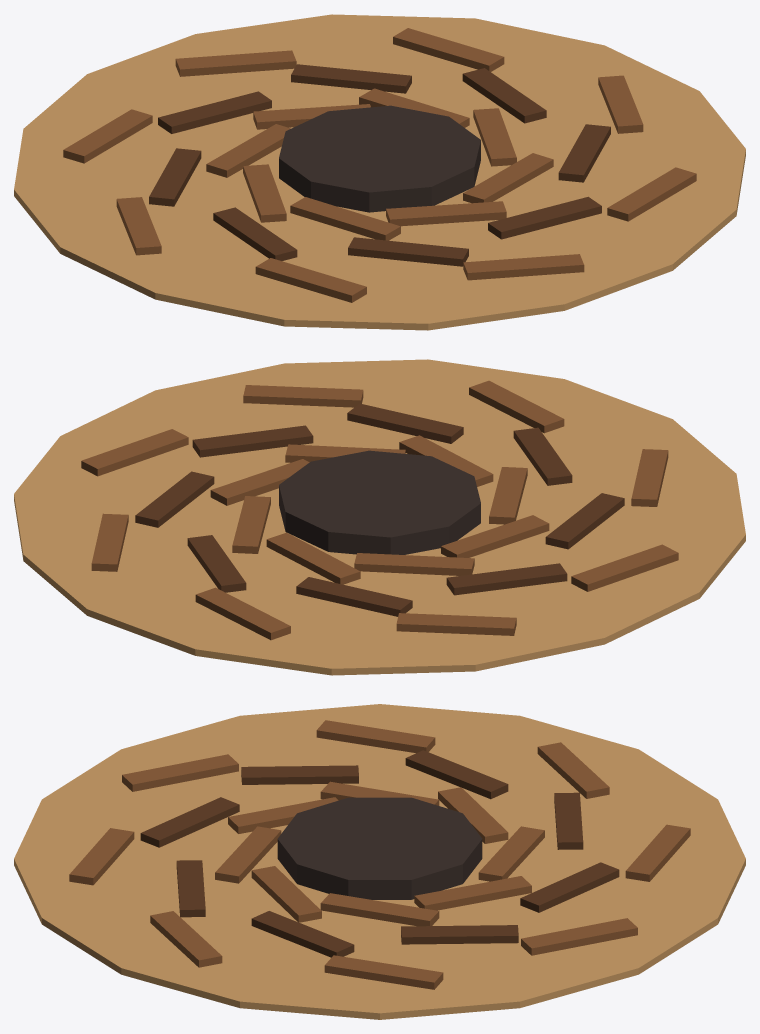
Rendered from SinkholeZone.fbx.
3 views of the same model, one above another, from view 1: azimuth 30°, elevation 25°; view 2: azimuth 150°, elevation 25°; view 3: azimuth 270°, elevation 25° (orthographic).
Visible parts, largest first — view 1: SinkholeZone; view 2: SinkholeZone; view 3: SinkholeZone.
Part boxes in pixels (x1,y1,x2,y2): SinkholeZone: (14,14,745,330); SinkholeZone: (14,359,745,675); SinkholeZone: (14,704,745,1019).
Size of the model in its own units: 10 by 0.4 by 10.
